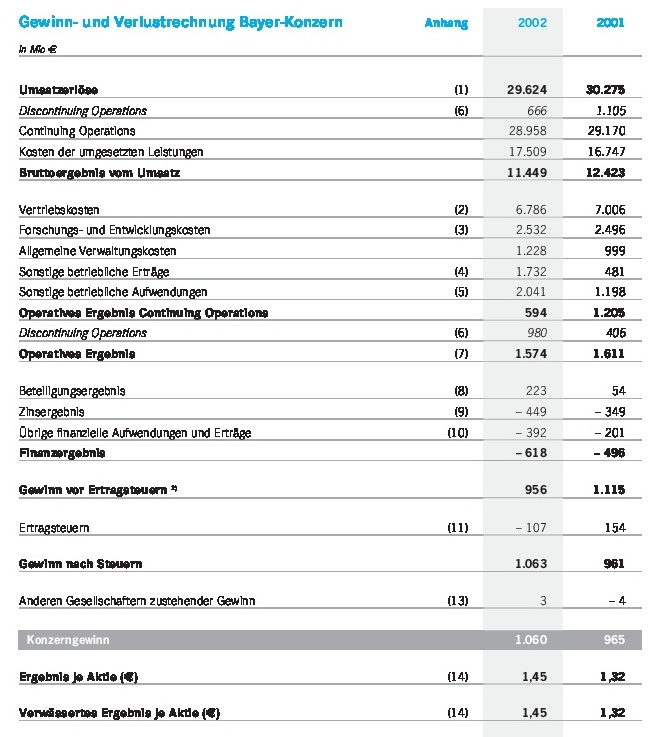table: (0, 0, 657, 737)
